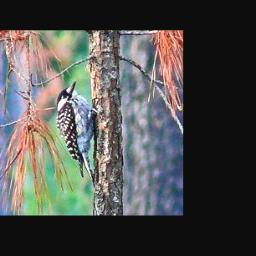Woodpecker: (49, 75, 110, 190)
